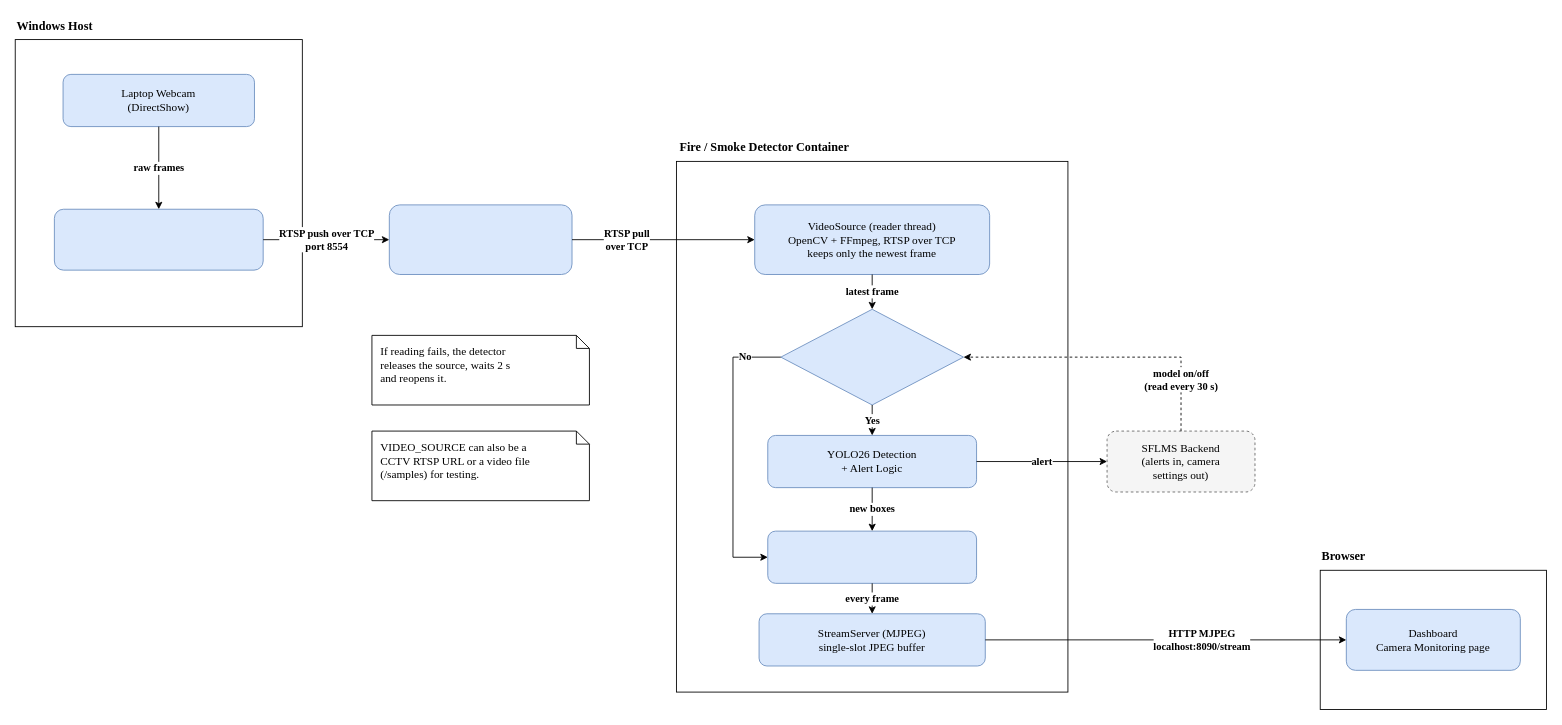
Some shapes in this 1562 by 725 pixel diagram are drawn without their labels. Here are the shapes that lost their labels. From the top down, the centre of each, then its label:
(x=158, y=239): ffmpeg Publisher (start_laptop_camera.ps1) H.264, zero-latency
(x=480, y=239): MediaMTX RTSP Relay (Docker container) path: /laptop
(x=872, y=356): Frame Count % 5 == 0 and model enabled?
(x=872, y=556): Annotate Frame (new or last known boxes)
